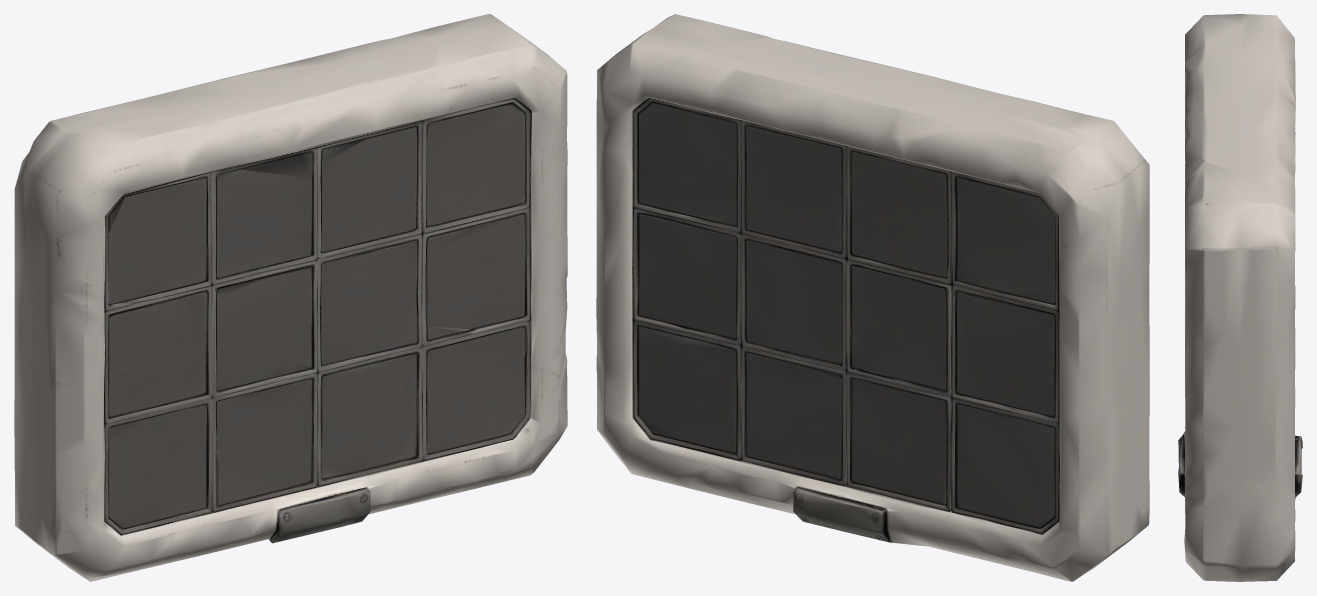
Rendered from sensorArray.glb.
The picture shows the model from 3 angles, left to right: view 1: azimuth 30°, elevation 25°; view 2: azimuth 150°, elevation 25°; view 3: azimuth 270°, elevation 25°; orthographic projection. The views are drawn at different scales.
Parts seen in each view (by area): view 1: tripo_node_b2b6ad89-7bd9-4f18-9c03-d6f74b76c10d; view 2: tripo_node_b2b6ad89-7bd9-4f18-9c03-d6f74b76c10d; view 3: tripo_node_b2b6ad89-7bd9-4f18-9c03-d6f74b76c10d.
Boxes of the visible parts, left/top/right/bottom form: tripo_node_b2b6ad89-7bd9-4f18-9c03-d6f74b76c10d: left=14, top=14, right=567, bottom=581; tripo_node_b2b6ad89-7bd9-4f18-9c03-d6f74b76c10d: left=596, top=14, right=1149, bottom=581; tripo_node_b2b6ad89-7bd9-4f18-9c03-d6f74b76c10d: left=1178, top=14, right=1302, bottom=581.
Size of the model in its own units: 4 by 3.23 by 0.9585.
Materials: 1 (1 with a texture image).
